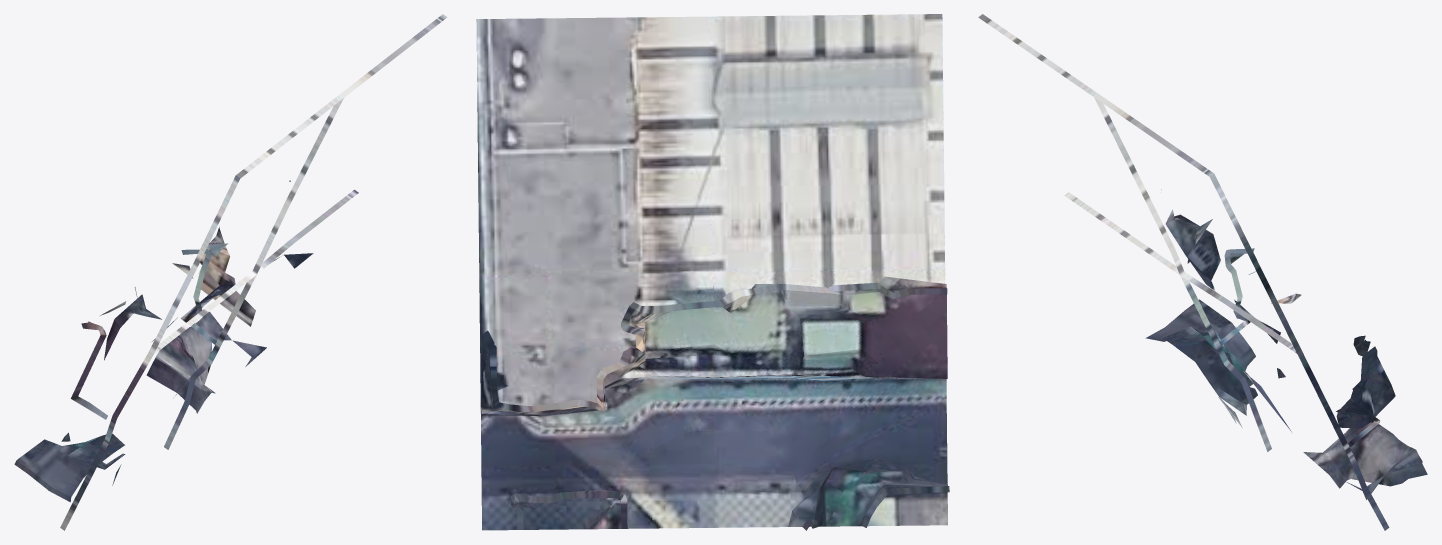
3 views of the same model, side by side, from view 1: azimuth 30°, elevation 25°; view 2: azimuth 150°, elevation 25°; view 3: azimuth 270°, elevation 25° (orthographic). The views are drawn at different scales.
Bounding box in the file's own units: 40.27 × 34.75 × 35.19.
1 material, 1 textured.
